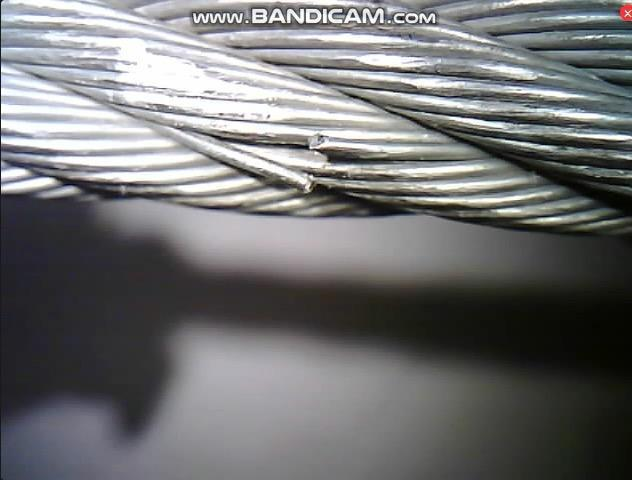break: (274, 120, 336, 198)
